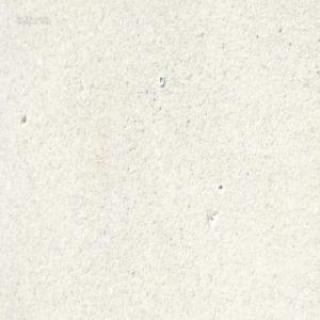Washertrack_idkeyframe: (157, 72, 164, 86)
